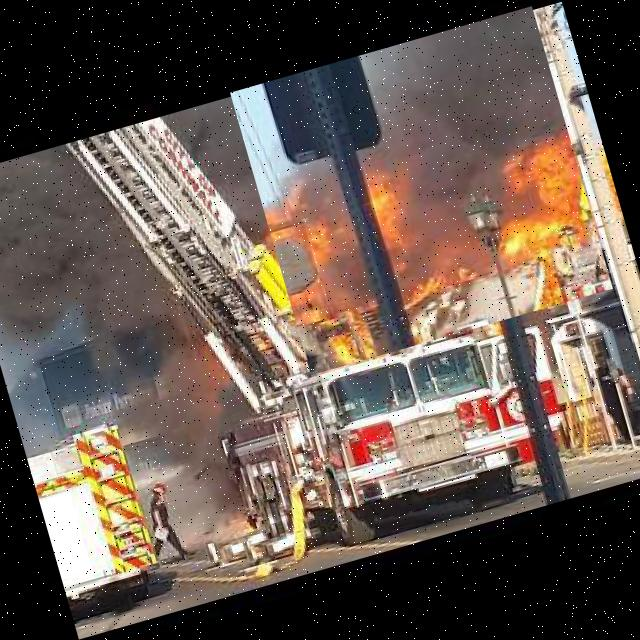fire: (230, 6, 612, 374)
